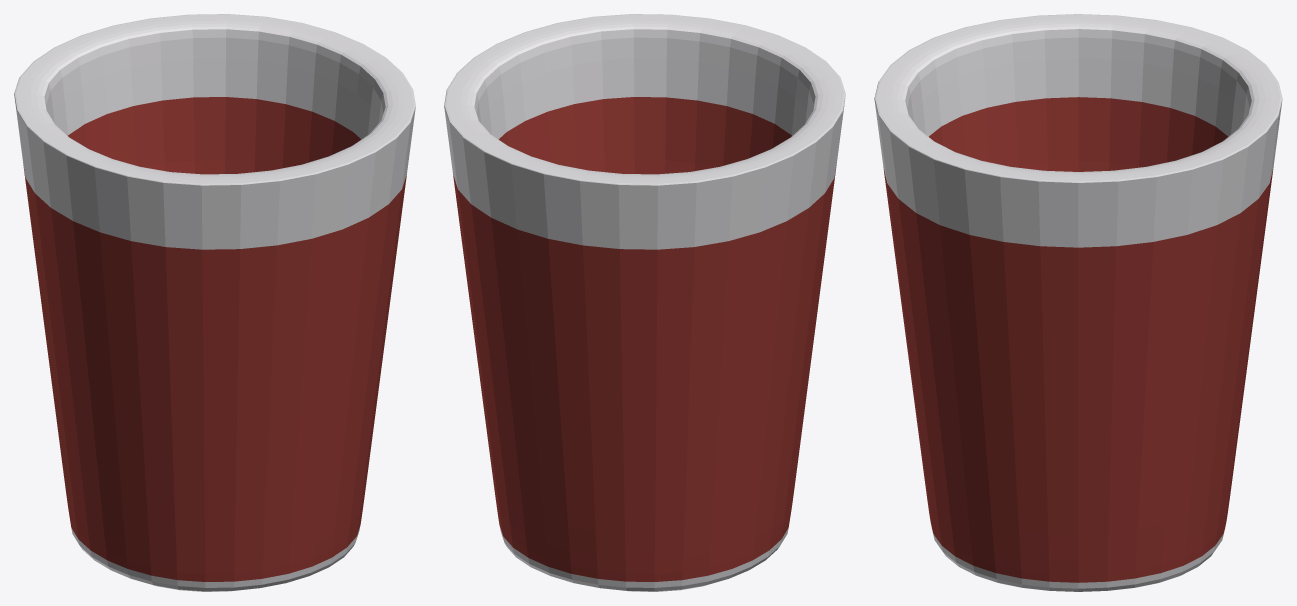
Rendered from cup.fbx.
3 renders of one model, left to right at view 1: azimuth 30°, elevation 25°; view 2: azimuth 150°, elevation 25°; view 3: azimuth 270°, elevation 25°, orthographic.
Visible parts, largest first — view 1: Cube; view 2: Cube; view 3: Cube.
Part boxes in pixels (x1,y1,x2,y2): Cube: (14, 14, 415, 591); Cube: (444, 14, 845, 591); Cube: (874, 14, 1282, 591).
Bounding box in the file's own units: 250 × 305 × 255.
